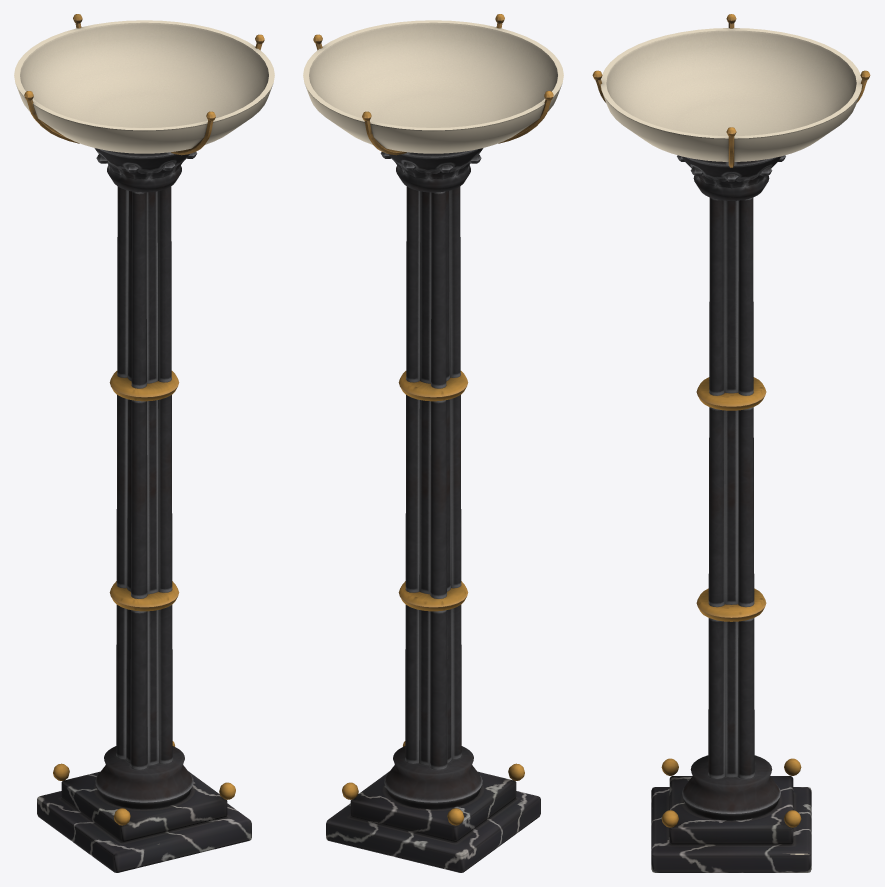
File: TorchereAlabaster.fbx
3 renders of one model, left to right at view 1: azimuth 30°, elevation 25°; view 2: azimuth 150°, elevation 25°; view 3: azimuth 270°, elevation 25°, orthographic.
Visible parts, largest first — view 1: TorchereAlabaster_Main, TorchereAlabaster_Glow; view 2: TorchereAlabaster_Main, TorchereAlabaster_Glow; view 3: TorchereAlabaster_Main, TorchereAlabaster_Glow.
Part boxes in pixels (box(x1,y1,x2,y2)): TorchereAlabaster_Main: box(24, 14, 264, 872); TorchereAlabaster_Glow: box(14, 20, 274, 153); TorchereAlabaster_Main: box(313, 14, 553, 872); TorchereAlabaster_Glow: box(303, 20, 563, 153); TorchereAlabaster_Main: box(592, 14, 870, 872); TorchereAlabaster_Glow: box(600, 28, 862, 161).
Size of the model in its own units: 191 by 584 by 191.
